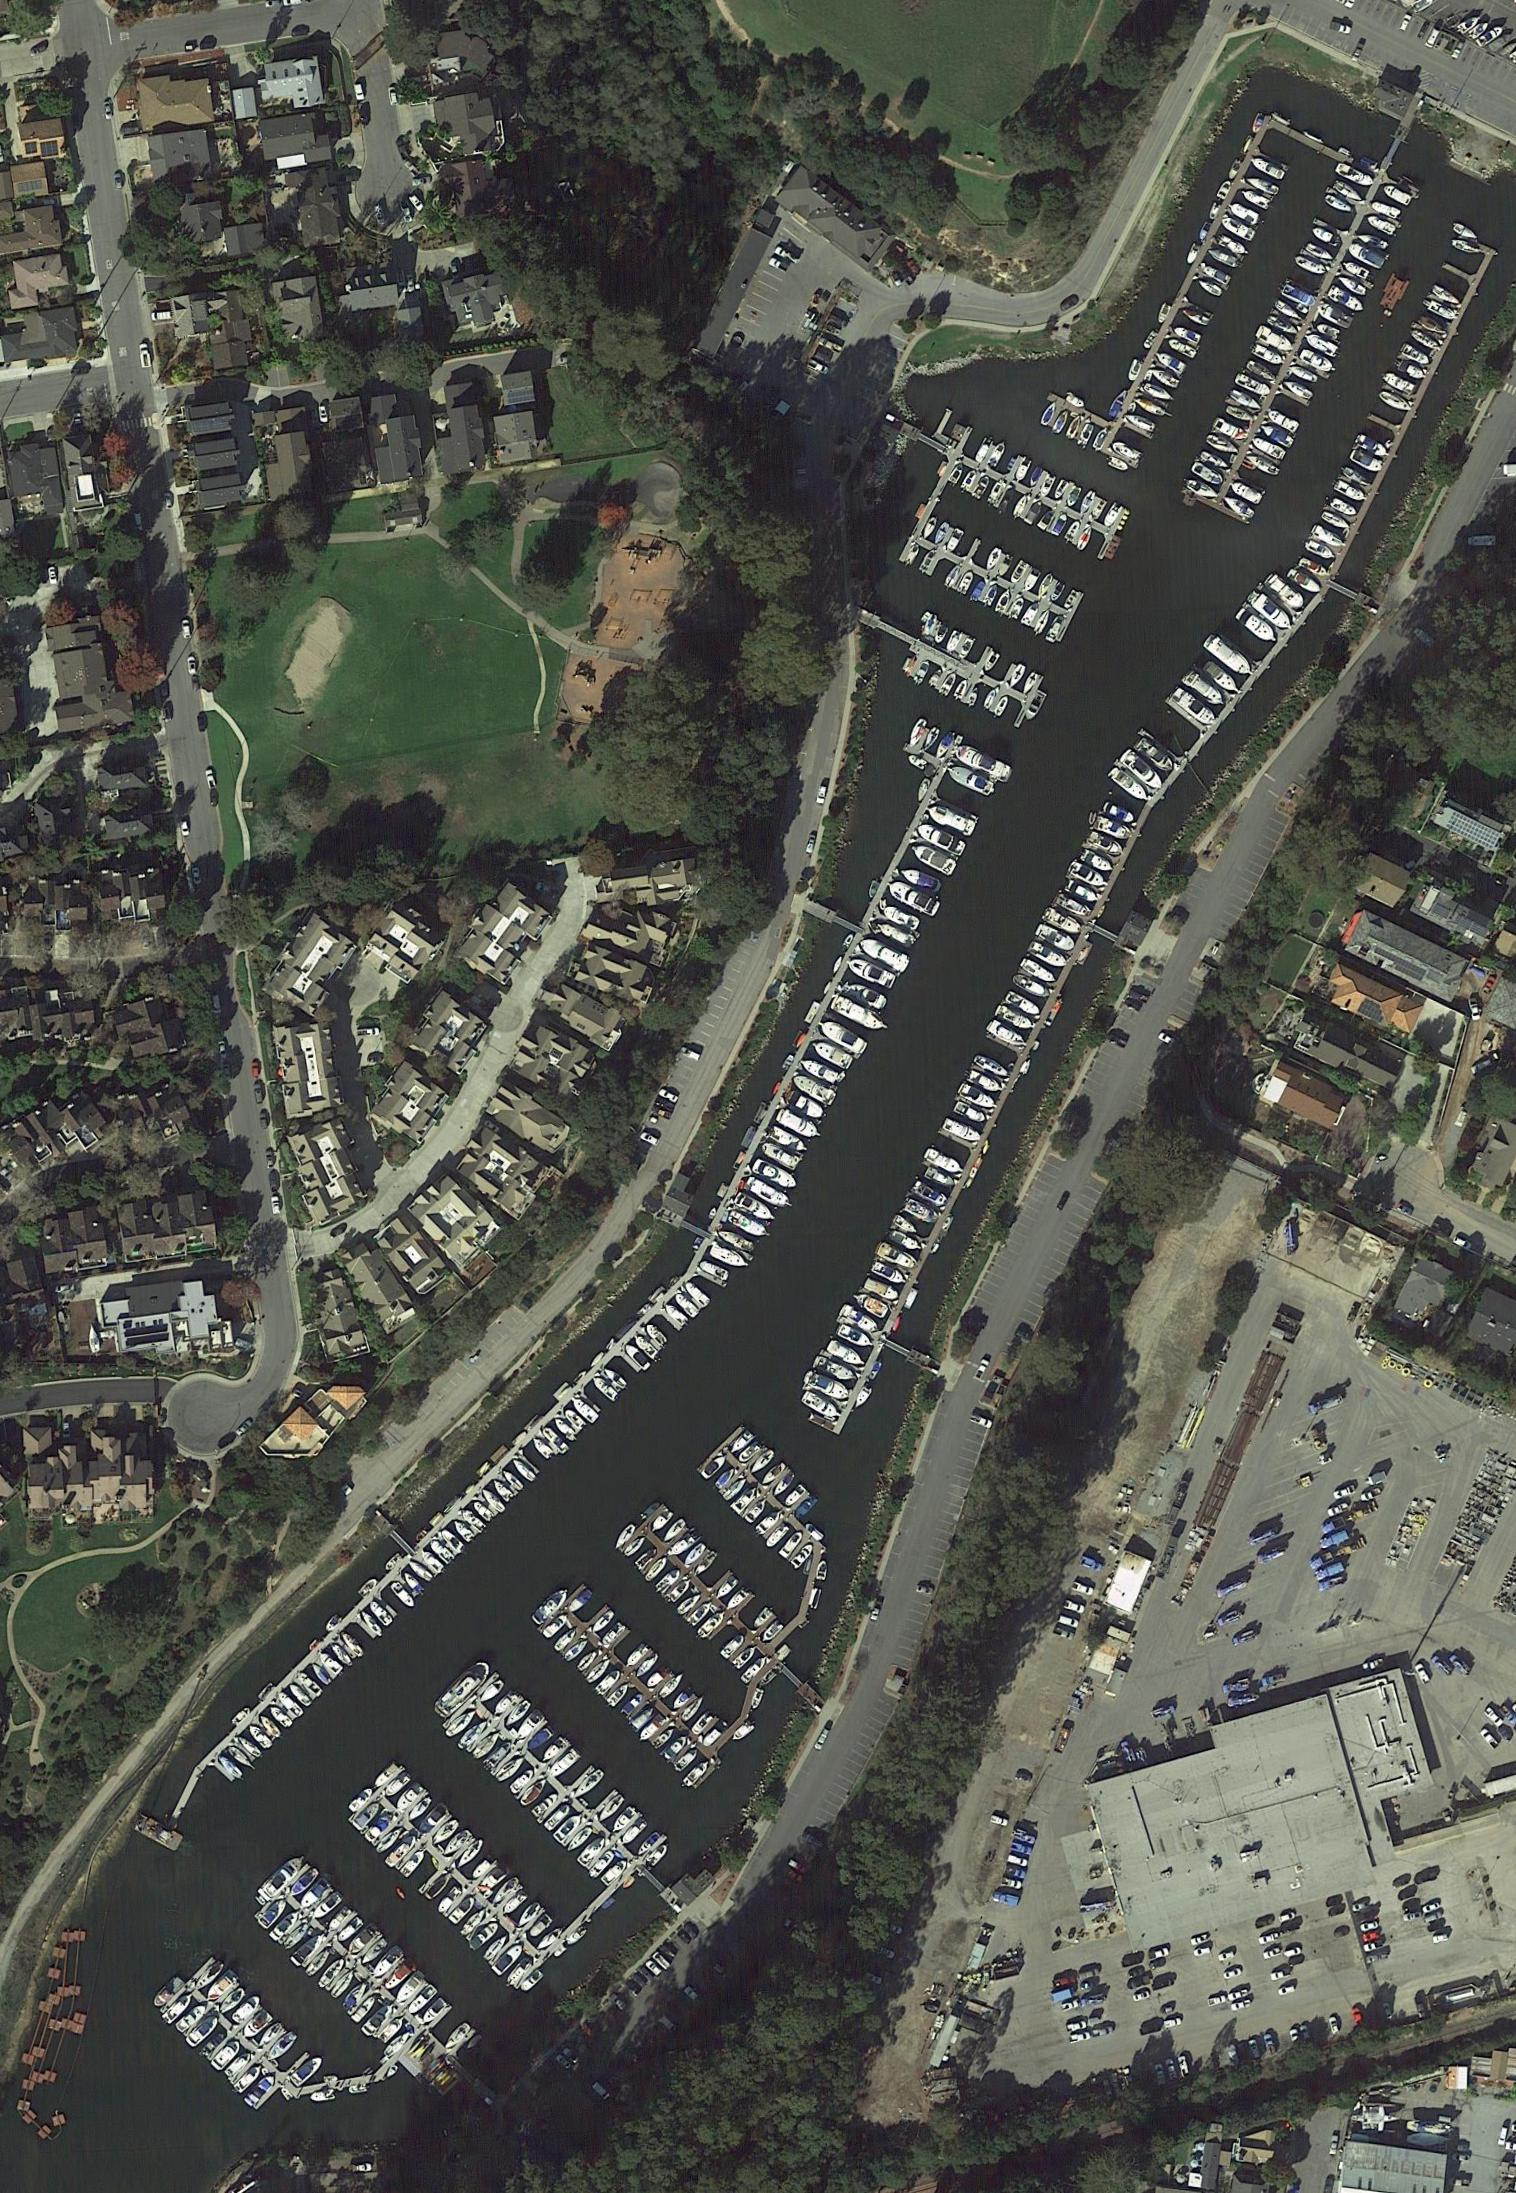harbor: (194, 1268, 716, 1795), (782, 787, 1151, 1437), (685, 736, 1009, 1295), (1180, 161, 1415, 528), (1295, 230, 1497, 582), (1099, 120, 1302, 470), (1109, 560, 1322, 808), (442, 1671, 663, 1889), (347, 1764, 565, 1984), (254, 1862, 460, 2069), (538, 1582, 727, 1777), (618, 1503, 786, 1675), (159, 1956, 322, 2123), (949, 429, 1129, 560), (906, 514, 1086, 643), (698, 1426, 839, 1570), (882, 608, 1046, 731), (1034, 391, 1111, 454), (167, 1767, 206, 1832)
ship: (430, 1656, 495, 1722), (257, 1850, 309, 1903), (1203, 631, 1257, 682), (953, 741, 1015, 785), (830, 994, 890, 1038), (858, 932, 912, 975), (1247, 589, 1297, 635), (886, 878, 941, 919), (1169, 685, 1219, 730), (1120, 748, 1167, 795), (816, 1017, 869, 1057), (1263, 570, 1309, 616), (1234, 604, 1282, 648), (774, 1106, 826, 1145), (742, 1175, 794, 1214), (924, 802, 978, 839), (134, 1814, 185, 1853), (1181, 668, 1226, 712), (916, 821, 967, 858), (846, 955, 897, 991), (946, 762, 997, 798), (1134, 735, 1177, 777), (750, 1158, 800, 1194), (791, 1071, 838, 1108), (803, 1368, 851, 1404), (1108, 765, 1151, 805), (733, 1190, 778, 1227), (1376, 269, 1413, 314), (842, 977, 889, 1012), (1202, 658, 1243, 698), (530, 1585, 570, 1626), (910, 842, 958, 876), (727, 1208, 772, 1243), (289, 1929, 328, 1969), (838, 1302, 882, 1337), (783, 1088, 827, 1123), (810, 1037, 855, 1071), (1034, 920, 1077, 955), (812, 1355, 859, 1387), (1040, 904, 1084, 938), (899, 862, 943, 896), (875, 1240, 920, 1273), (1010, 970, 1053, 1004), (1026, 938, 1069, 972), (826, 1338, 869, 1372), (957, 1081, 999, 1115), (708, 1242, 751, 1275), (185, 2012, 222, 2050), (987, 1018, 1029, 1051), (800, 1389, 842, 1422), (1067, 859, 1109, 892), (767, 1124, 810, 1156), (161, 1990, 198, 2027), (360, 2002, 397, 2039), (924, 1145, 965, 1178), (995, 1002, 1036, 1035), (759, 1139, 801, 1171), (797, 1055, 840, 1086), (150, 1974, 186, 2011), (243, 2072, 279, 2109), (490, 1941, 526, 1978), (941, 1115, 982, 1147), (204, 1968, 240, 2004), (264, 2029, 300, 2065), (290, 2053, 326, 2089), (371, 1945, 406, 1982), (453, 1837, 488, 1874), (835, 1322, 876, 1353), (1093, 813, 1134, 844), (1346, 240, 1387, 271), (876, 919, 918, 949), (444, 1705, 479, 1741), (346, 1922, 382, 1957), (384, 1833, 419, 1869), (1018, 956, 1058, 987), (1255, 324, 1295, 355), (1085, 830, 1126, 860), (571, 1766, 606, 1801), (456, 1717, 491, 1752), (210, 2038, 244, 2074), (257, 1895, 291, 1931), (268, 1908, 302, 1944), (394, 1969, 427, 2006), (1004, 989, 1042, 1021), (1285, 566, 1323, 598), (1327, 285, 1366, 316), (971, 1052, 1011, 1082), (850, 1289, 890, 1319), (193, 1958, 227, 1993), (716, 1226, 757, 1255), (911, 1180, 950, 1210), (966, 1068, 1005, 1098), (1298, 348, 1338, 377), (175, 2001, 209, 2035), (240, 2008, 274, 2042), (363, 1810, 397, 1844), (513, 1708, 546, 1743), (315, 1955, 348, 1990), (468, 1919, 501, 1954), (1334, 162, 1375, 190), (904, 1197, 941, 1228), (1316, 300, 1354, 330), (882, 903, 921, 932), (1211, 415, 1250, 444), (1259, 421, 1298, 450), (576, 1834, 609, 1868), (547, 1748, 581, 1781), (518, 1776, 551, 1810), (298, 1877, 331, 1911), (374, 1823, 407, 1857), (1233, 372, 1273, 400), (489, 1874, 521, 1909), (1054, 891, 1092, 920), (1381, 369, 1419, 398), (471, 1729, 504, 1762), (670, 1526, 703, 1559), (231, 1992, 264, 2025), (310, 1890, 343, 1923), (406, 1984, 439, 2017), (553, 1811, 585, 1845), (417, 1802, 449, 1836), (288, 1865, 320, 1899), (1349, 447, 1385, 477), (1310, 523, 1347, 552), (871, 1260, 909, 1288), (863, 1276, 901, 1304), (1377, 388, 1415, 416), (1220, 215, 1258, 243), (226, 1743, 259, 1775), (352, 1799, 384, 1832), (340, 1979, 372, 2012), (458, 1905, 490, 1938), (430, 1815, 461, 1849), (234, 2061, 265, 2095), (887, 1227, 924, 1255), (1064, 878, 1101, 906), (1245, 452, 1282, 480), (495, 1753, 527, 1785), (381, 2028, 413, 2060), (281, 1920, 313, 1952), (422, 1871, 454, 1903), (304, 1945, 335, 1978), (327, 1968, 358, 2001), (1356, 433, 1392, 461), (1205, 431, 1241, 459), (1190, 461, 1226, 489), (1229, 479, 1265, 507), (1280, 283, 1317, 310), (502, 1698, 533, 1730), (217, 1986, 248, 2018), (447, 1894, 478, 1926), (394, 1781, 424, 1814), (443, 2020, 473, 2053), (442, 1827, 471, 1861), (1102, 799, 1137, 827), (1184, 477, 1220, 504), (1222, 494, 1258, 521), (1333, 478, 1369, 505), (1250, 155, 1287, 181), (600, 1856, 631, 1887), (484, 1739, 515, 1770), (223, 2050, 255, 2080), (1080, 848, 1115, 875), (1293, 252, 1328, 279), (1304, 331, 1339, 358), (1251, 436, 1287, 462), (754, 1507, 785, 1537), (565, 1824, 595, 1855), (696, 1610, 726, 1641), (682, 1759, 712, 1790), (359, 1937, 389, 1968), (590, 1373, 621, 1403), (588, 1848, 617, 1880), (740, 1654, 769, 1686), (384, 1961, 413, 1993), (1266, 408, 1300, 435), (924, 1166, 959, 1192), (1142, 380, 1177, 406), (1245, 173, 1281, 198), (1023, 688, 1048, 724), (747, 1447, 776, 1478), (683, 1279, 712, 1310), (597, 1793, 626, 1824), (620, 1816, 649, 1847), (544, 1802, 573, 1833), (638, 1713, 667, 1744), (541, 1425, 570, 1456), (389, 1580, 418, 1611), (399, 1847, 428, 1878), (514, 1900, 543, 1931), (504, 1957, 533, 1988), (623, 1341, 652, 1372), (1410, 328, 1443, 355), (954, 1101, 988, 1127), (1395, 358, 1429, 384), (1304, 538, 1338, 564), (1153, 350, 1187, 376), (1229, 388, 1263, 414), (1266, 313, 1301, 338), (1205, 245, 1240, 270), (1133, 394, 1168, 419), (526, 1724, 556, 1753), (595, 1667, 624, 1697), (642, 1555, 671, 1585), (721, 1474, 750, 1504), (276, 1690, 305, 1720), (459, 1505, 488, 1535), (377, 2015, 407, 2044), (633, 1650, 661, 1681), (420, 1997, 448, 2028), (1252, 343, 1286, 368), (700, 1453, 729, 1482), (255, 2021, 284, 2050), (571, 1396, 600, 1425), (482, 1933, 511, 1962), (770, 1470, 798, 1500), (760, 1459, 788, 1489), (351, 1994, 379, 2024), (534, 1925, 564, 1953), (1417, 313, 1449, 339), (1404, 2131, 1450, 2149), (1149, 366, 1182, 391), (1245, 359, 1278, 384), (1331, 180, 1365, 204), (791, 1494, 820, 1522), (542, 1612, 571, 1640), (562, 1636, 591, 1664), (585, 1656, 613, 1685), (532, 1791, 561, 1819), (692, 1549, 720, 1578), (658, 1671, 686, 1700), (679, 1695, 707, 1724), (296, 1670, 324, 1699), (336, 1916, 364, 1945), (348, 1786, 376, 1815), (779, 1530, 806, 1560), (406, 1794, 433, 1824), (247, 1722, 274, 1752), (1427, 299, 1459, 324), (1430, 284, 1462, 309), (1110, 439, 1142, 464), (1310, 225, 1343, 249), (1199, 449, 1232, 473), (1287, 362, 1320, 386), (480, 1865, 508, 1893), (634, 1830, 662, 1858), (384, 1771, 412, 1799), (372, 1762, 400, 1790), (676, 1590, 704, 1618), (662, 1734, 690, 1762), (673, 1746, 701, 1774), (217, 1753, 245, 1781), (428, 1538, 456, 1566), (763, 1522, 790, 1551), (610, 1806, 637, 1835), (326, 1905, 353, 1934), (1281, 378, 1315, 401), (1123, 410, 1157, 433), (1406, 2118, 1452, 2135), (359, 1608, 385, 1638), (368, 1598, 394, 1628), (436, 1886, 462, 1916), (1401, 343, 1432, 368), (1298, 556, 1329, 581), (1450, 236, 1482, 260), (1382, 183, 1414, 207), (1320, 509, 1352, 533), (698, 1259, 731, 1282), (674, 1291, 701, 1319), (744, 1497, 771, 1525), (552, 1626, 580, 1653), (567, 1587, 594, 1615), (478, 1678, 505, 1706), (509, 1768, 536, 1796), (540, 1736, 567, 1764), (733, 1485, 760, 1513), (656, 1567, 683, 1595), (611, 1523, 638, 1551), (199, 2031, 226, 2059), (480, 1487, 507, 1515), (633, 1334, 661, 1361), (469, 1854, 496, 1882), (1337, 273, 1368, 297), (1218, 234, 1249, 258), (1167, 336, 1198, 360), (1474, 24, 1505, 48), (1240, 188, 1272, 211), (1228, 202, 1260, 225), (663, 1301, 690, 1328), (720, 1633, 747, 1660), (339, 1631, 366, 1658), (493, 1689, 519, 1717), (606, 1681, 632, 1709), (510, 1457, 538, 1483), (502, 1889, 528, 1917), (662, 1516, 687, 1545), (1329, 496, 1359, 520), (906, 718, 929, 749), (1342, 466, 1373, 489), (1044, 614, 1067, 645), (1322, 194, 1354, 216), (1365, 214, 1397, 236), (728, 1430, 754, 1457), (590, 1609, 616, 1636), (688, 1600, 714, 1627), (732, 1644, 758, 1671), (288, 1682, 314, 1709), (330, 1642, 356, 1669), (790, 1542, 815, 1570), (407, 1558, 435, 1583), (891, 1213, 920, 1237), (1273, 299, 1303, 322), (1202, 263, 1232, 286), (1357, 231, 1388, 253), (934, 730, 956, 761), (1108, 388, 1130, 419), (737, 1440, 763, 1466), (646, 1841, 672, 1867), (601, 1622, 627, 1648), (318, 1650, 344, 1676), (268, 1704, 294, 1730), (490, 1477, 516, 1503), (603, 1365, 629, 1391), (682, 1542, 707, 1569), (645, 1664, 670, 1691), (650, 1507, 674, 1535), (1455, 13, 1483, 37), (1305, 242, 1335, 264), (1225, 404, 1255, 426), (1172, 323, 1202, 345), (1370, 199, 1401, 220), (668, 1578, 694, 1603), (670, 1686, 695, 1712), (237, 1734, 263, 1759), (309, 1661, 334, 1687), (530, 1435, 555, 1461), (439, 1527, 464, 1553), (420, 1549, 445, 1575), (528, 1914, 553, 1940), (519, 1969, 545, 1994), (1342, 258, 1371, 280), (987, 440, 1009, 469), (1181, 307, 1211, 328), (634, 1546, 659, 1571), (714, 1576, 739, 1601), (759, 1620, 784, 1645), (258, 1714, 283, 1739), (644, 1323, 669, 1348), (783, 1484, 807, 1510), (624, 1643, 648, 1669), (726, 1586, 750, 1612), (631, 1705, 657, 1729), (690, 1711, 714, 1737), (500, 1469, 526, 1493), (401, 1570, 425, 1596), (921, 725, 942, 754), (1077, 489, 1098, 518), (576, 1648, 600, 1673), (622, 1535, 647, 1559), (714, 1466, 738, 1491), (622, 1692, 646, 1717), (1008, 559, 1030, 586), (1102, 502, 1124, 529), (910, 659, 932, 686), (1196, 277, 1224, 298), (943, 562, 964, 590), (938, 670, 959, 698), (1023, 499, 1044, 527), (1074, 525, 1095, 553), (987, 478, 1007, 507), (652, 1726, 676, 1750), (563, 1407, 587, 1431), (639, 1499, 663, 1523), (357, 1575, 380, 1600), (852, 1384, 873, 1411), (1452, 222, 1479, 243), (1021, 600, 1042, 627), (971, 474, 992, 501), (994, 588, 1014, 616), (974, 437, 994, 465), (1013, 457, 1033, 485), (731, 1721, 755, 1744), (452, 1519, 475, 1543), (553, 1416, 576, 1440), (565, 1925, 589, 1948), (1022, 568, 1043, 594), (1124, 358, 1145, 384), (1465, 20, 1491, 41), (945, 528, 965, 555), (1035, 573, 1055, 600), (984, 546, 1004, 573), (1077, 422, 1097, 449), (472, 1500, 495, 1523), (956, 570, 976, 596), (918, 548, 938, 574), (944, 629, 964, 655), (1051, 410, 1071, 436), (1008, 663, 1027, 690), (1012, 494, 1031, 521), (1065, 414, 1084, 441), (1034, 608, 1052, 636), (1050, 512, 1070, 537), (1039, 402, 1059, 427), (914, 777, 933, 803), (1089, 497, 1108, 523), (1039, 472, 1057, 499), (803, 1521, 825, 1543), (1106, 455, 1130, 475), (1008, 595, 1027, 620), (903, 543, 922, 568), (921, 516, 940, 541), (1154, 302, 1173, 327), (933, 521, 951, 547), (230, 1706, 252, 1727), (952, 677, 971, 701), (981, 651, 1000, 675), (993, 693, 1011, 718), (1021, 671, 1039, 696), (1184, 242, 1202, 267), (1092, 426, 1110, 451), (1064, 519, 1082, 544), (758, 1668, 779, 1689), (752, 1608, 772, 1630), (956, 638, 975, 661), (1316, 322, 1340, 340), (983, 583, 1001, 607), (948, 462, 966, 486), (960, 469, 978, 493), (996, 555, 1014, 579), (325, 1613, 345, 1634), (1065, 392, 1087, 411), (464, 2032, 486, 2051), (1142, 329, 1161, 351), (1226, 159, 1244, 182), (1216, 179, 1234, 202), (970, 579, 987, 603), (982, 687, 999, 711), (1028, 466, 1045, 490), (1062, 589, 1080, 611), (932, 623, 950, 645), (1249, 112, 1266, 135), (1065, 486, 1082, 509), (964, 686, 981, 709), (310, 2089, 336, 2104), (702, 1729, 722, 1748), (384, 1553, 403, 1573), (926, 668, 944, 689), (906, 753, 928, 770), (1049, 582, 1066, 604), (1053, 480, 1070, 502), (750, 1688, 765, 1711), (1197, 220, 1213, 241), (866, 879, 883, 898), (869, 1360, 884, 1381), (1208, 200, 1223, 221), (620, 1874, 638, 1891), (816, 1559, 829, 1582), (278, 2087, 295, 2103), (384, 2063, 400, 2080), (348, 2083, 368, 2096), (780, 1054, 795, 1071), (843, 932, 855, 950), (395, 1886, 406, 1900), (1087, 813, 1098, 825)
